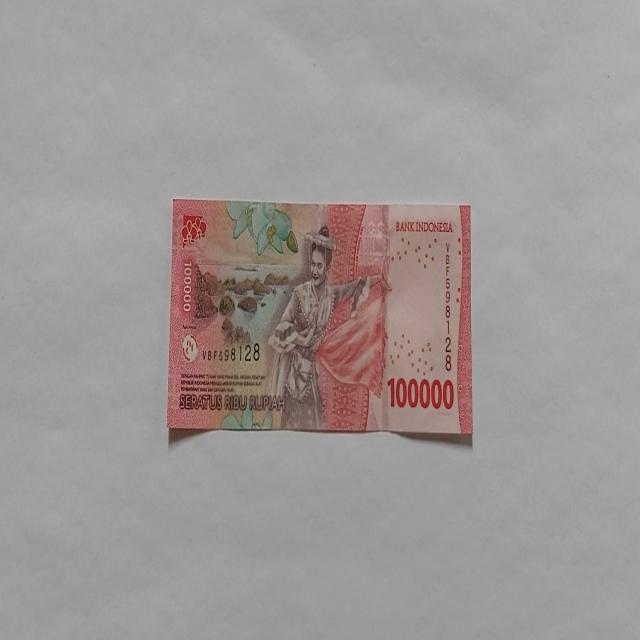seratus ribu rupiah: (166, 198, 473, 439), (264, 224, 372, 428)
